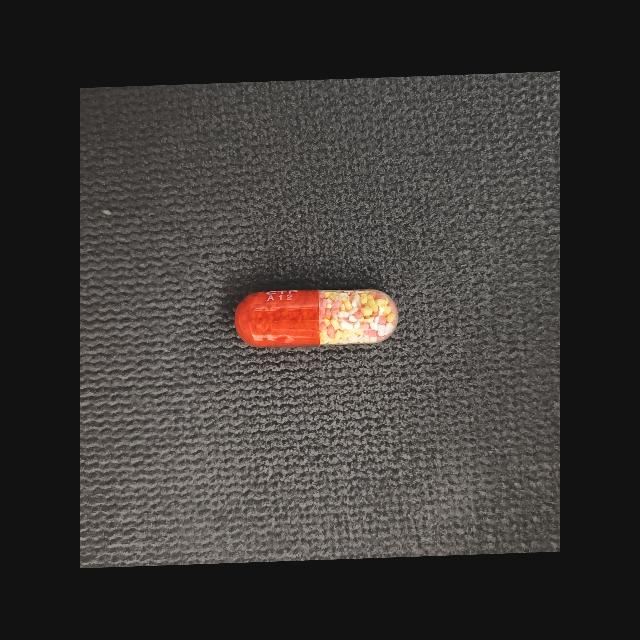Intact Capsule: (234, 289, 398, 348)
